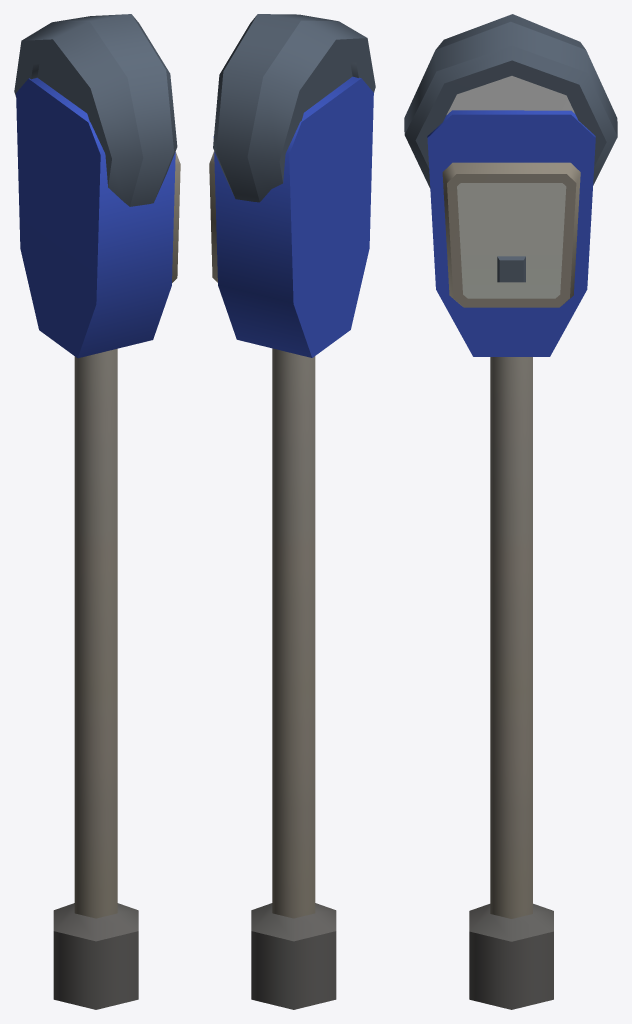
File: Parkomat.fbx
3 views of the same model, side by side, from view 1: azimuth 30°, elevation 25°; view 2: azimuth 150°, elevation 25°; view 3: azimuth 270°, elevation 25° (orthographic).
Visible parts, largest first — view 1: Parkomat; view 2: Parkomat; view 3: Parkomat.
Boxes of the visible parts, x1,y1,x2,y2 form: Parkomat: (14, 14, 180, 1009); Parkomat: (209, 14, 375, 1009); Parkomat: (404, 14, 617, 1009).
Bounding box in the file's own units: 17.79 × 167 × 33.51.
